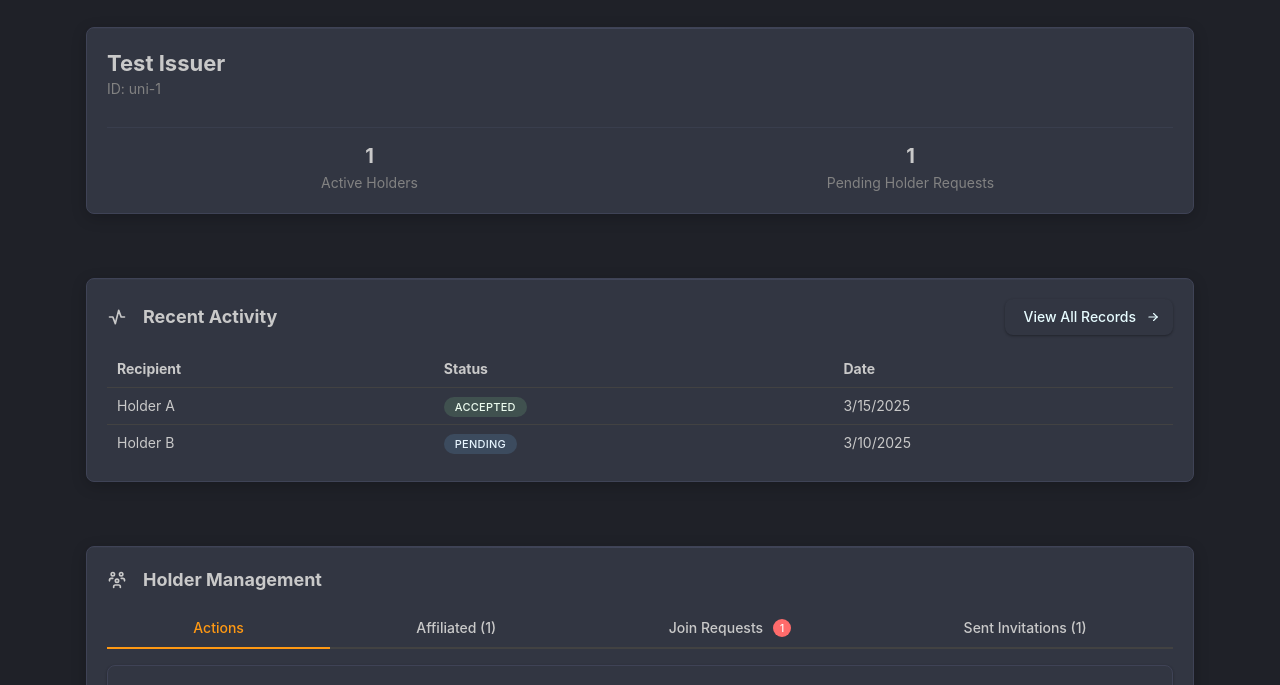
Test case: ManageIssuer component › can switch to join requests tab and display pending requests
Check: the element showing "Actions Affiliated (1) Join Requests 1 Sent Invitations (1)" is shown, box [107,609,1173,649]
Click the tab
Click the tab "Join Requests 1". click: [730, 629]
box: [582,609,877,649]
(page scrolled)
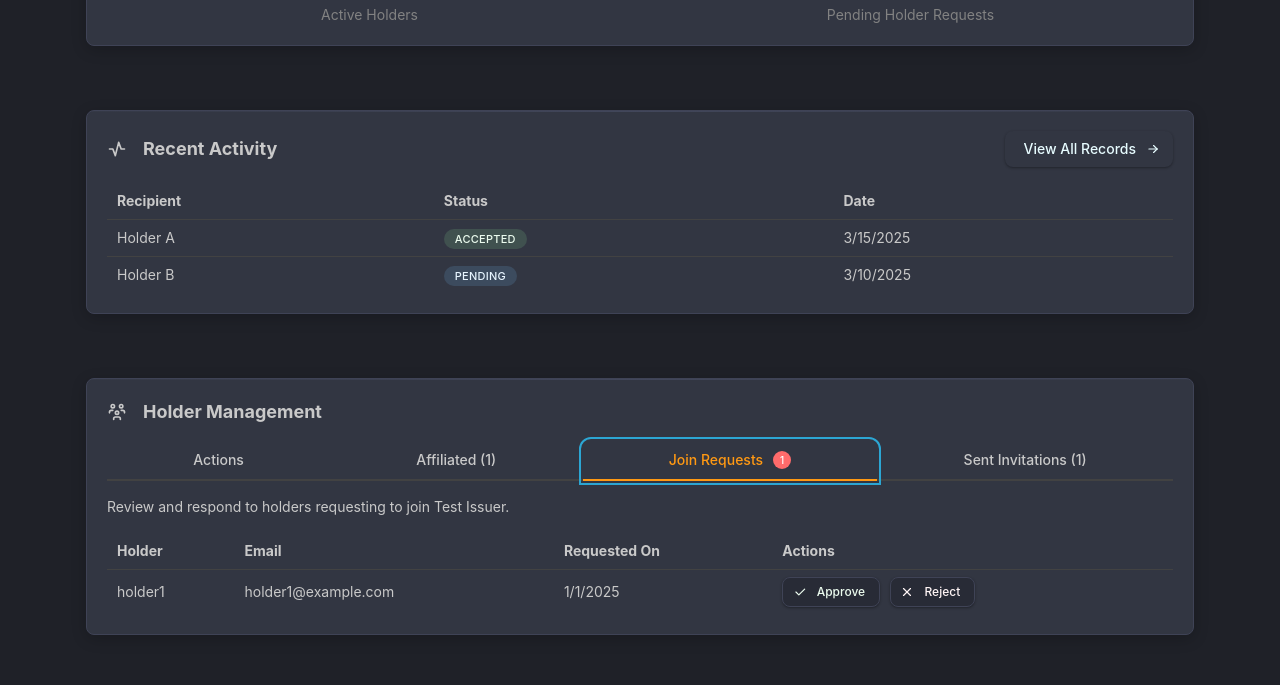
Check: the text "Review and respond to holders requesting to join" is shown, box [107,498,434,515]
Check: the cell "holder1" is shown, box [107,570,234,614]
Check: the button "Approve" is shown, box [782,577,880,607]
